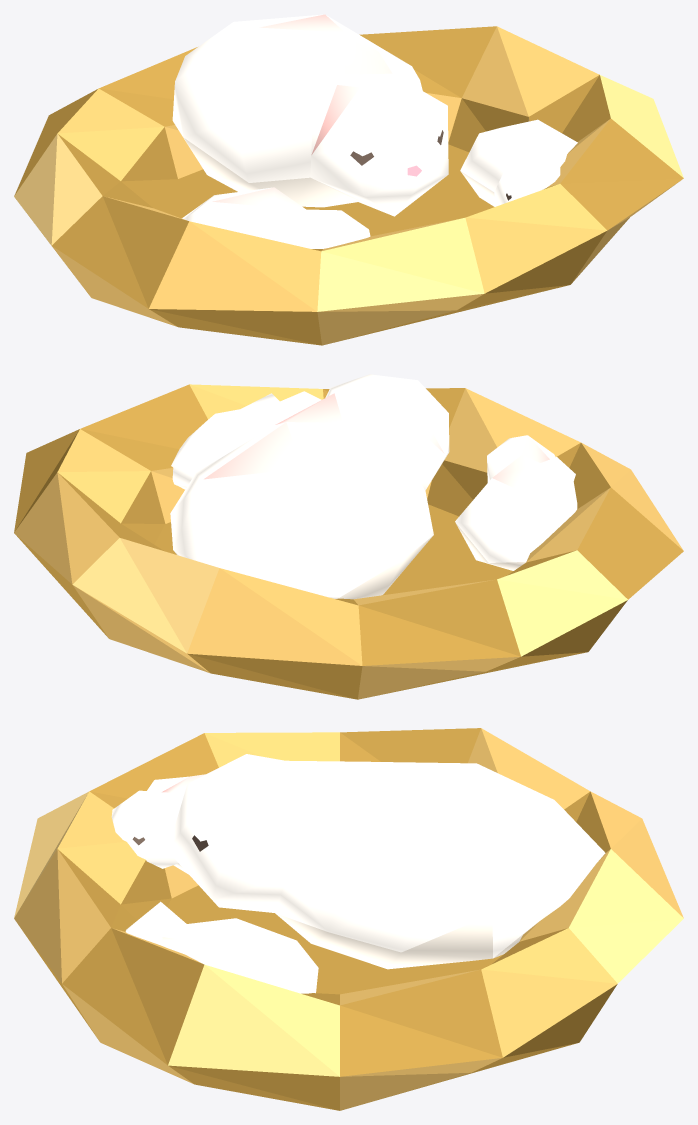
File: bunny-family.glb
3 renders of one model, top to bottom at view 1: azimuth 30°, elevation 25°; view 2: azimuth 150°, elevation 25°; view 3: azimuth 270°, elevation 25°, orthographic. The views are drawn at different scales.
Visible parts, largest first — view 1: bunny-family; view 2: bunny-family; view 3: bunny-family.
Boxes of the visible parts, x1,y1,x2,y2 form: bunny-family: (14, 14, 683, 345); bunny-family: (14, 374, 683, 699); bunny-family: (14, 728, 683, 1110).
Size of the model in its own units: 1.52 by 0.447 by 1.3.
